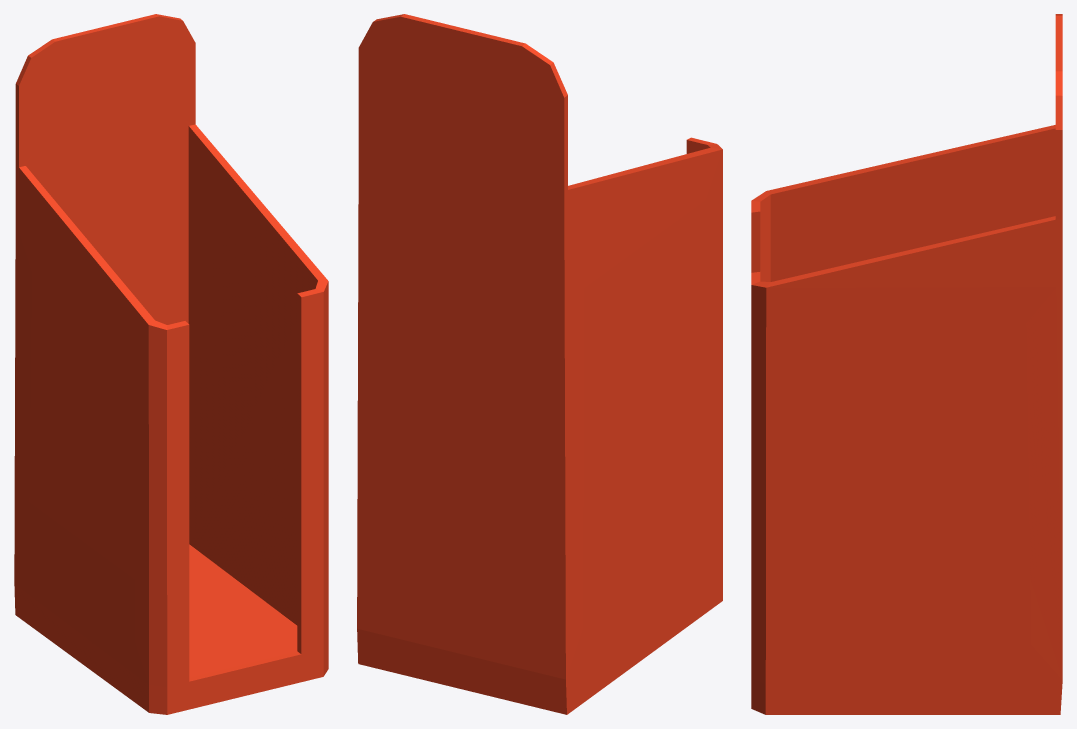
The model's file is SM_Newspaper_Stand_City.fbx.
3 renders of one model, left to right at view 1: azimuth 30°, elevation 25°; view 2: azimuth 150°, elevation 25°; view 3: azimuth 270°, elevation 25°, orthographic. The views are drawn at different scales.
Parts seen in each view (by area): view 1: SM_Newspaper_Stand_City; view 2: SM_Newspaper_Stand_City; view 3: SM_Newspaper_Stand_City.
Boxes of the visible parts, x1=… form: SM_Newspaper_Stand_City: x1=14, y1=14, x2=328, y2=714; SM_Newspaper_Stand_City: x1=357, y1=14, x2=722, y2=714; SM_Newspaper_Stand_City: x1=751, y1=14, x2=1062, y2=714.
Size of the model in its own units: 0.308 by 0.9257 by 0.4192.
